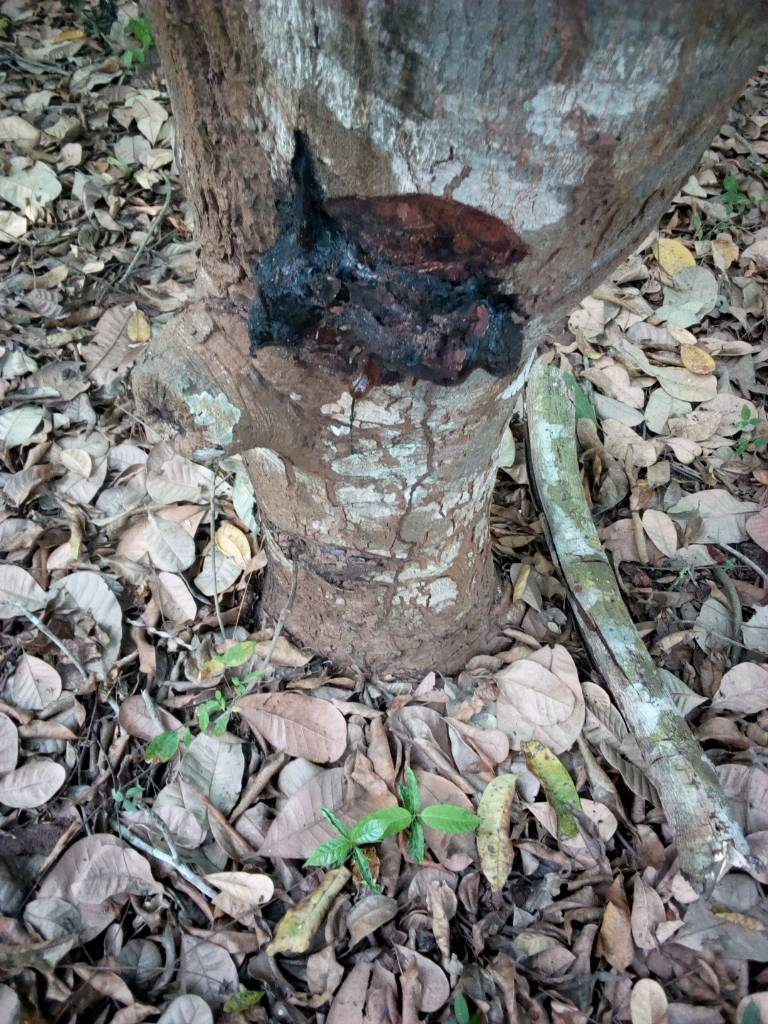ploceadorus ferrugineus: (243, 165, 563, 467)
